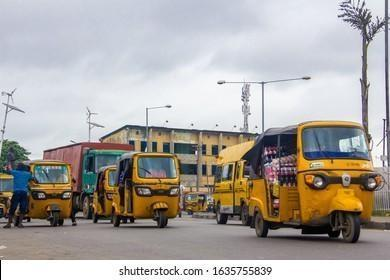keke: (246, 116, 381, 247), (117, 148, 182, 234), (6, 154, 72, 230)
